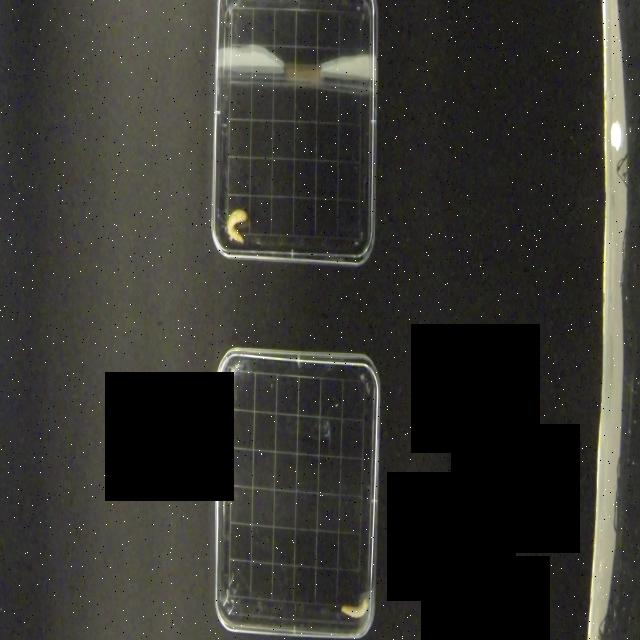larva: (224, 206, 252, 246), (341, 594, 370, 622)
